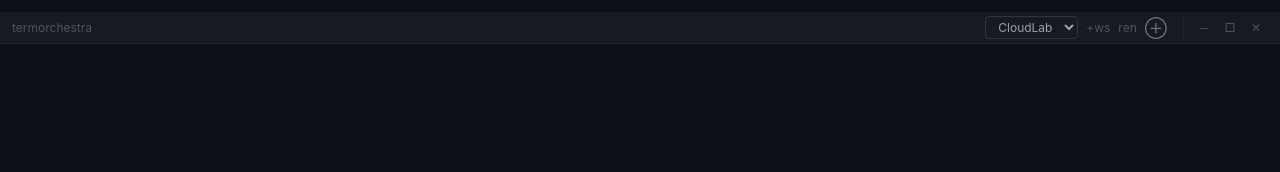
Toolbar › clicking ren shows rename input pre-filled with workspace name
Click the button "ren" at [1128, 28], box x1=1118 y1=20 x2=1137 y2=36
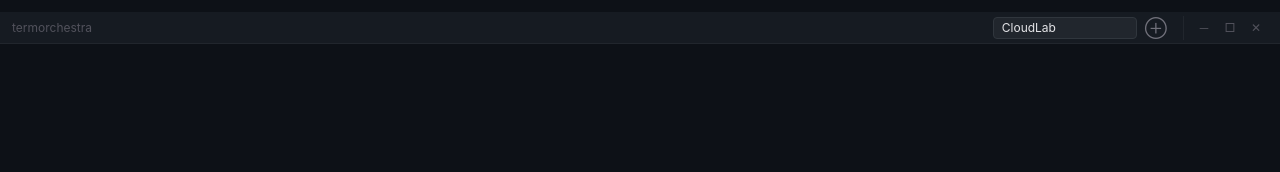
Expected: the field showing "CloudLab" is shown, x1=993 y1=16 x2=1137 y2=38
